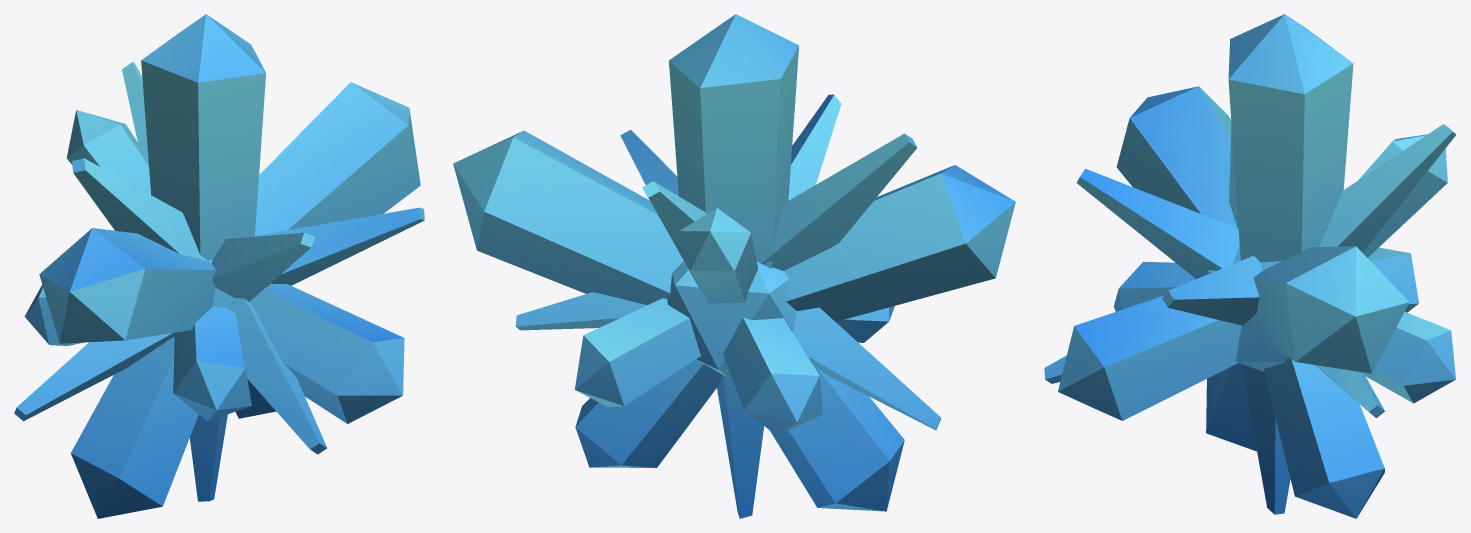
3 renders of one model, left to right at view 1: azimuth 30°, elevation 25°; view 2: azimuth 150°, elevation 25°; view 3: azimuth 270°, elevation 25°, orthographic. The views are drawn at different scales.
Visible parts, largest first — view 1: object.018; view 2: object.018; view 3: object.018.
Part boxes in pixels (x1=…): object.018: x1=14, y1=14, x2=424, y2=518; object.018: x1=453, y1=14, x2=1015, y2=518; object.018: x1=1044, y1=14, x2=1456, y2=518.
Size of the model in its own units: 153 by 161 by 120.
